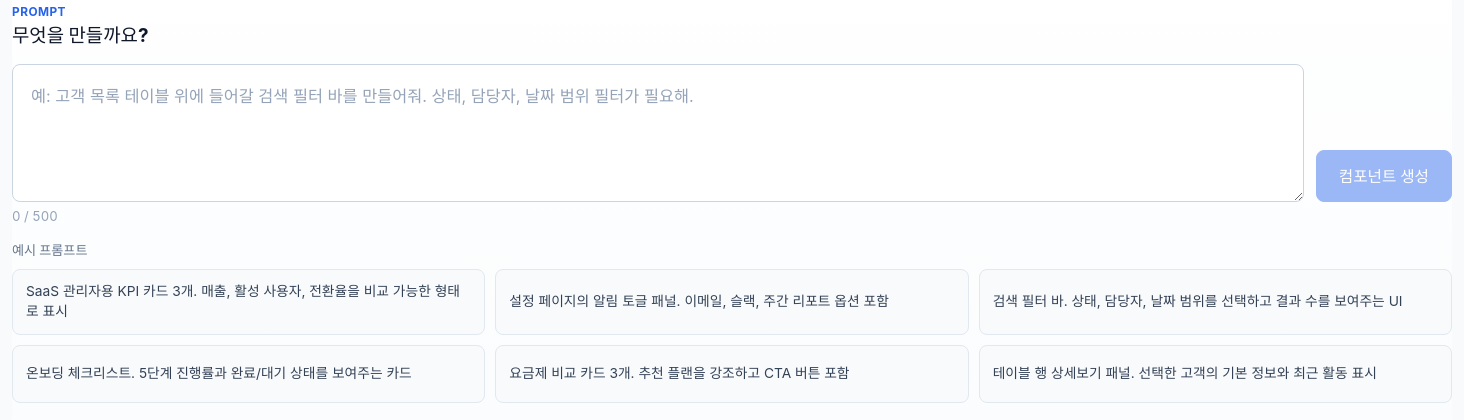
Test: PromptInput › 현재 글자 수와 최대 글자 수를 보여준다
The width and height of the screenshot is (1464, 420).
In the text box: (658, 133) [12,64,1304,202], type "프로필 카드"
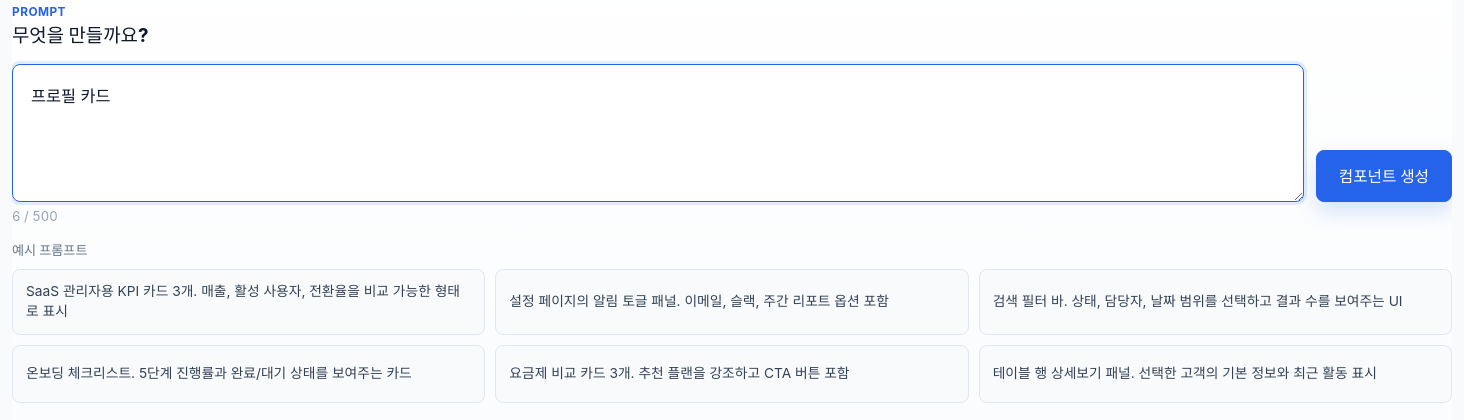
Expected: the text "6 / 500" is shown, [12,208,58,224]
